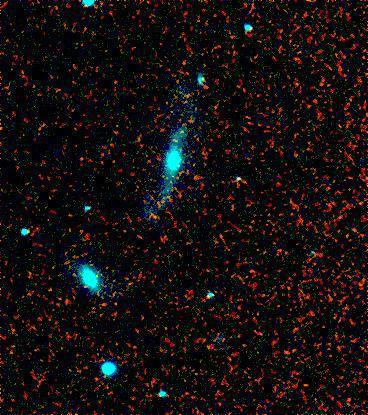star: (141, 199, 171, 229)
